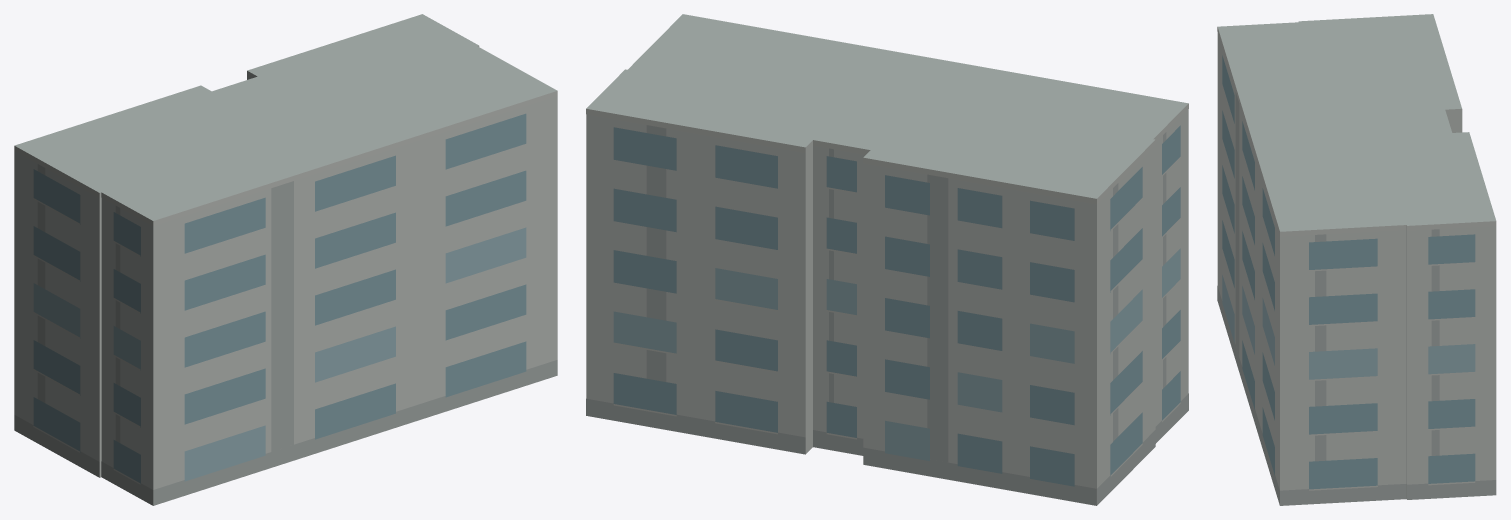
Rendered from survey-upis-32980476.glb.
The picture shows the model from 3 angles, left to right: view 1: azimuth 30°, elevation 25°; view 2: azimuth 150°, elevation 25°; view 3: azimuth 270°, elevation 25°; orthographic projection. The views are drawn at different scales.
Visible parts, largest first — view 1: survey-upis-32980476.tmp; view 2: survey-upis-32980476.tmp; view 3: survey-upis-32980476.tmp.
Boxes of the visible parts, box(x1,y1,x2,y2) form: survey-upis-32980476.tmp: box(14, 14, 557, 505); survey-upis-32980476.tmp: box(586, 14, 1188, 505); survey-upis-32980476.tmp: box(1217, 14, 1496, 505).
Bounding box in the file's own units: 22.67 × 13.3 × 12.27.
